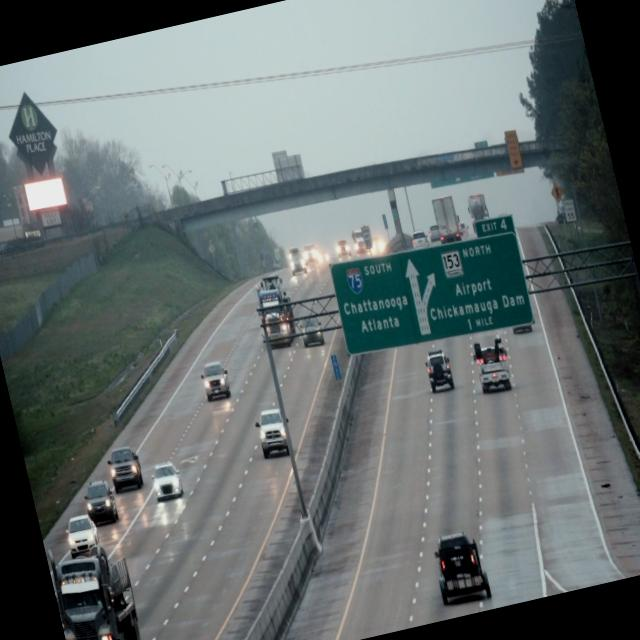Vehicle: (50, 541, 149, 640), (429, 528, 492, 604), (250, 270, 300, 350), (467, 332, 518, 398), (104, 439, 148, 498), (252, 405, 295, 465), (82, 473, 120, 531), (422, 346, 458, 401), (147, 456, 185, 504), (61, 514, 102, 558), (198, 356, 234, 404)
